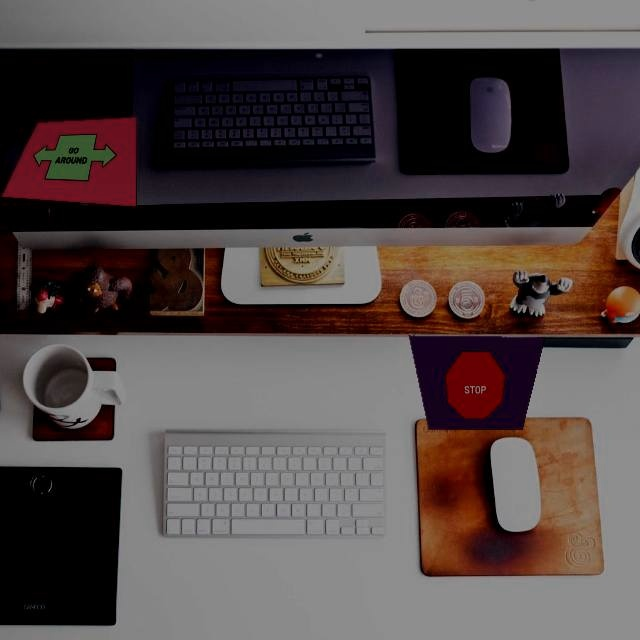GO_AROUND: (23, 122, 128, 192)
STOP: (442, 350, 514, 421)
